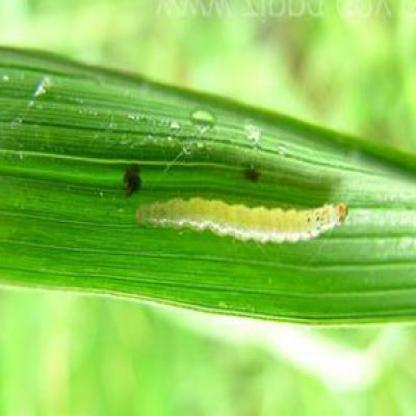leaf-folder: (138, 178, 360, 270)
